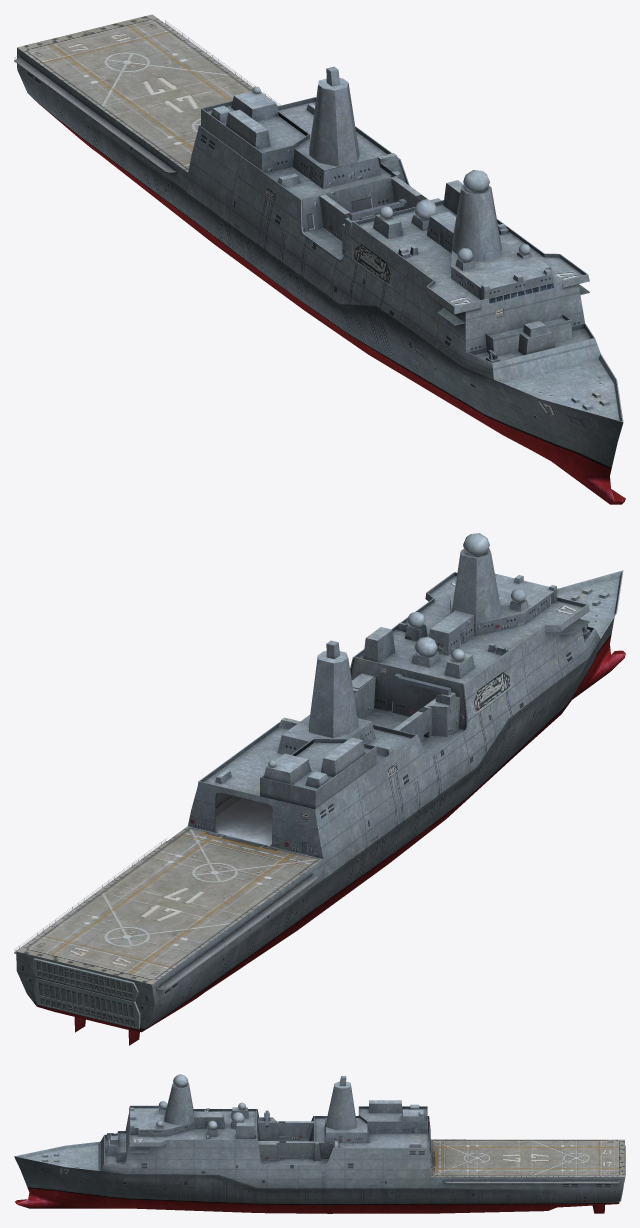
Rendered from amphib_lpd17.glb.
3 renders of one model, top to bottom at view 1: azimuth 30°, elevation 25°; view 2: azimuth 150°, elevation 25°; view 3: azimuth 270°, elevation 25°, orthographic. The views are drawn at different scales.
Parts seen in each view (by area): view 1: ShapeIndexedFaceS.004; view 2: ShapeIndexedFaceS.004; view 3: ShapeIndexedFaceS.004.
Part boxes in pixels (bbox=[...]): ShapeIndexedFaceS.004: bbox=[14, 14, 625, 504]; ShapeIndexedFaceS.004: bbox=[14, 533, 625, 1045]; ShapeIndexedFaceS.004: bbox=[14, 1074, 625, 1213].
Size of the model in its own units: 33.93 by 50.32 by 209.
Materials: 2 (2 with a texture image).
